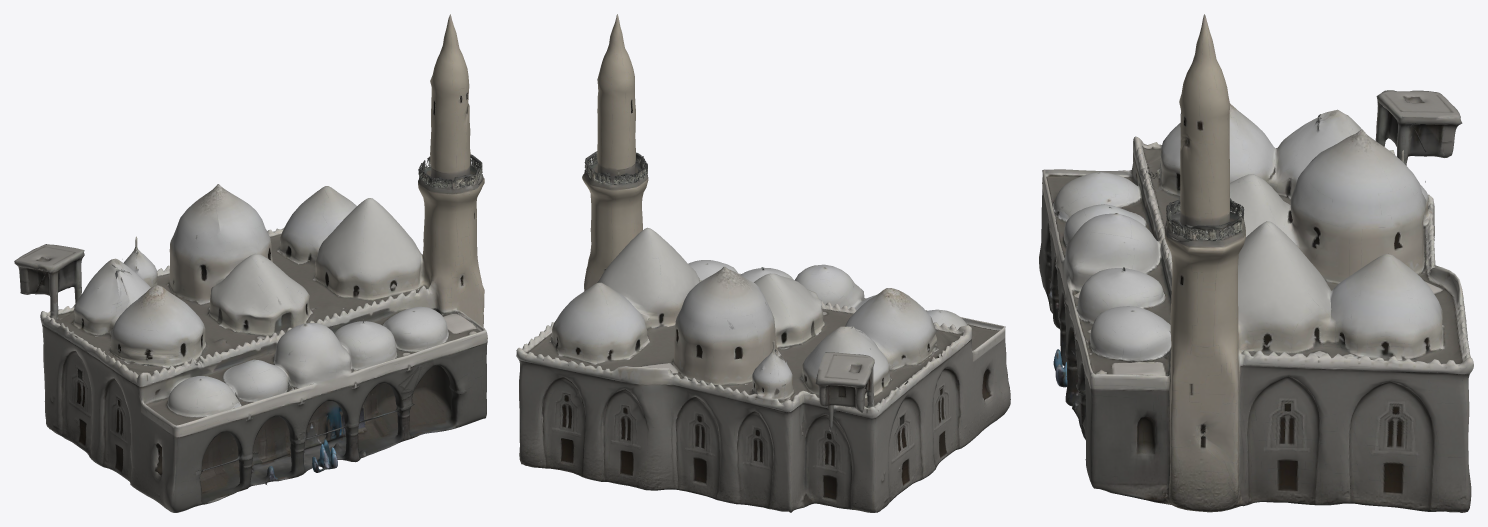
The model's file is masjid-ghamama.glb.
3 renders of one model, left to right at view 1: azimuth 30°, elevation 25°; view 2: azimuth 150°, elevation 25°; view 3: azimuth 270°, elevation 25°, orthographic. The views are drawn at different scales.
Parts seen in each view (by area): view 1: tripo_node_0f75505b-c9fa-480d-9ff1-c58f38bd9fc2; view 2: tripo_node_0f75505b-c9fa-480d-9ff1-c58f38bd9fc2; view 3: tripo_node_0f75505b-c9fa-480d-9ff1-c58f38bd9fc2.
Boxes of the visible parts, left/top/right/bottom form: tripo_node_0f75505b-c9fa-480d-9ff1-c58f38bd9fc2: left=14, top=14, right=487, bottom=512; tripo_node_0f75505b-c9fa-480d-9ff1-c58f38bd9fc2: left=516, top=14, right=1010, bottom=512; tripo_node_0f75505b-c9fa-480d-9ff1-c58f38bd9fc2: left=1039, top=14, right=1473, bottom=512.
Bounding box in the file's own units: 0.9263 × 0.9271 × 0.7205.
Materials: 1 (1 with a texture image).
